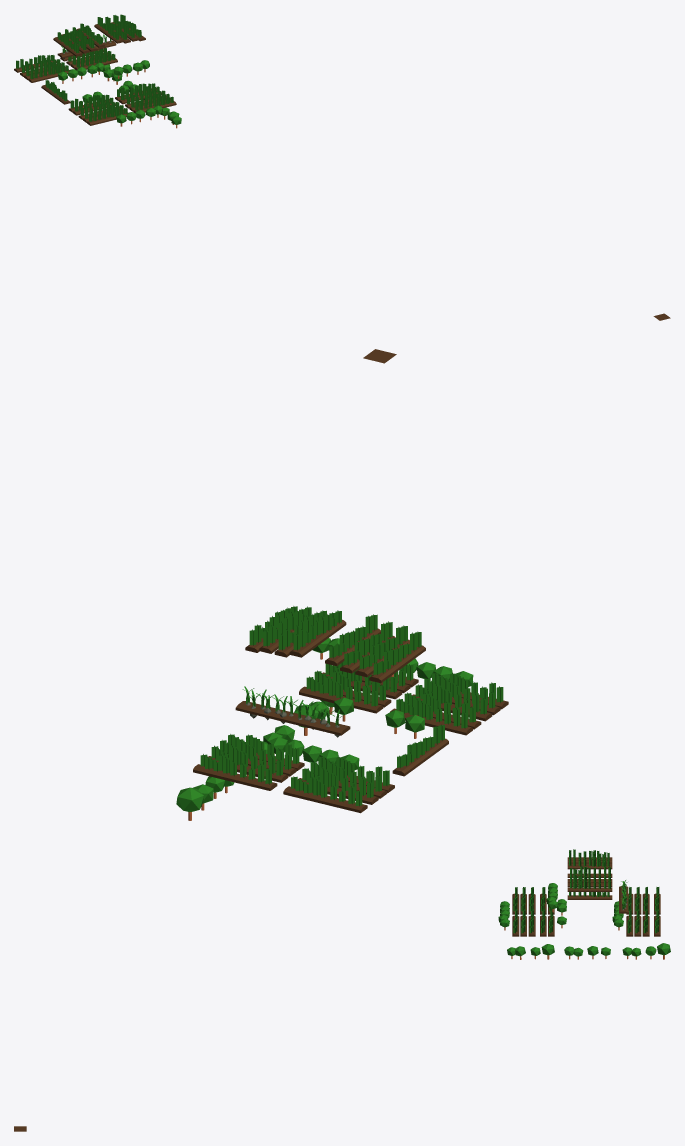
Rendered from solution_3_food_roof.fbx.
The picture shows the model from 3 angles, top to bottom: view 1: azimuth 30°, elevation 25°; view 2: azimuth 150°, elevation 25°; view 3: azimuth 270°, elevation 25°; orthographic projection. The views are drawn at different scales.
Parts seen in each view (by area): view 1: solution_3_food_roof; view 2: solution_3_food_roof; view 3: solution_3_food_roof.
Part boxes in pixels (bbox=[...]): solution_3_food_roof: bbox=[14, 14, 670, 320]; solution_3_food_roof: bbox=[176, 349, 508, 820]; solution_3_food_roof: bbox=[14, 849, 670, 1131].
Size of the model in its own units: 5820 by 2446 by 10474.
